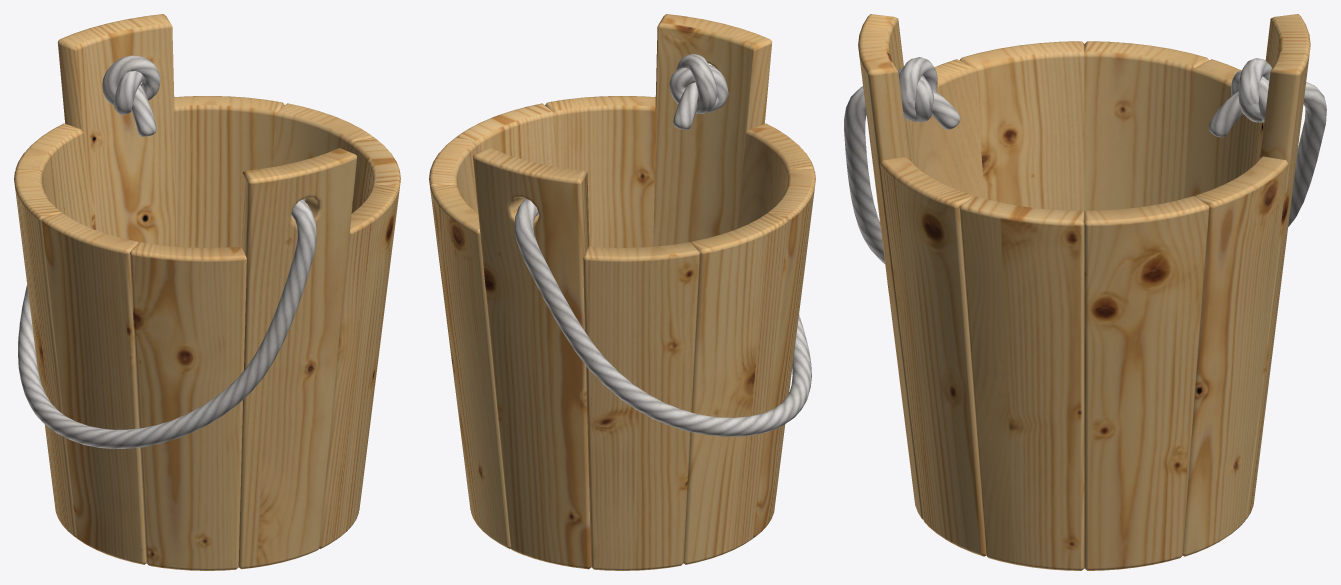
The model's file is wooden_bucket.glb.
3 renders of one model, left to right at view 1: azimuth 30°, elevation 25°; view 2: azimuth 150°, elevation 25°; view 3: azimuth 270°, elevation 25°, orthographic. The views are drawn at different scales.
Visible parts, largest first — view 1: WoodenBucket; view 2: WoodenBucket; view 3: WoodenBucket.
Part boxes in pixels (x1=…): WoodenBucket: x1=14, y1=14, x2=400, y2=570; WoodenBucket: x1=429, y1=14, x2=815, y2=570; WoodenBucket: x1=844, y1=14, x2=1326, y2=570.
Size of the model in its own units: 13.97 by 16.38 by 15.63.
Materials: 1 (1 with a texture image).
